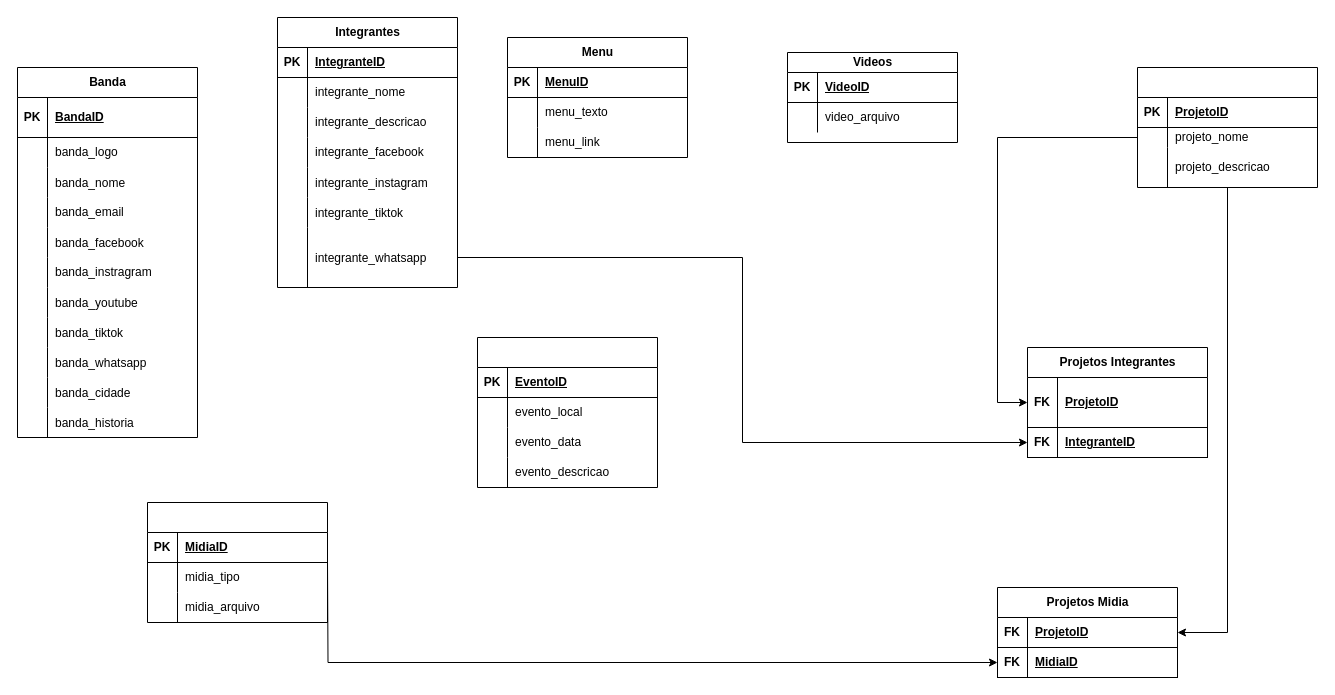
Some shapes in this 1335 by 695 pixel diagram are drawn without their labels. The box of each missing label's shape, as (x1, y1, x2, y2) in pixels:
Banda Mídia: (146, 502, 328, 622)
Eventos: (476, 336, 658, 488)
Projetos: (1136, 66, 1318, 188)
